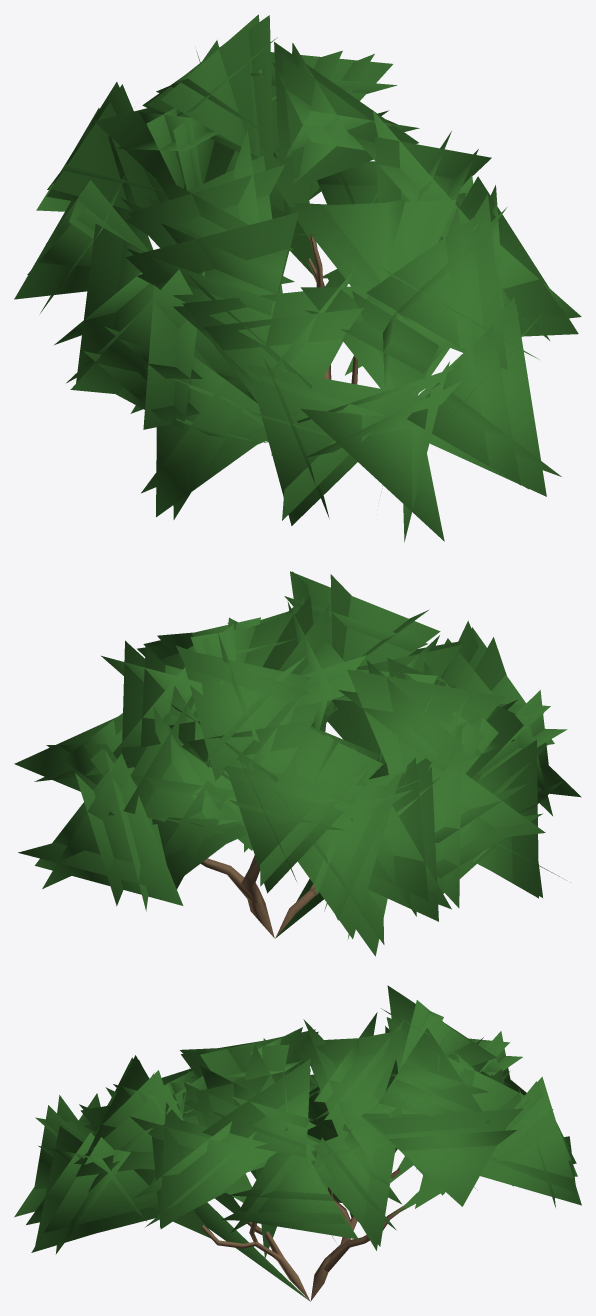
File: Scholar_Bush_K.obj
3 renders of one model, top to bottom at view 1: azimuth 30°, elevation 25°; view 2: azimuth 150°, elevation 25°; view 3: azimuth 270°, elevation 25°, orthographic. The views are drawn at different scales.
Visible parts, largest first — view 1: Leaves; view 2: Leaves, Trunk; view 3: Leaves, Trunk.
Part boxes in pixels (x1,y1,x2,y2): Leaves: [14, 14, 581, 542]; Leaves: [14, 571, 581, 956]; Trunk: [200, 846, 319, 938]; Leaves: [14, 985, 581, 1300]; Trunk: [201, 1168, 405, 1301].
Bounding box in the file's own units: 11.91 × 10.34 × 17.76.
